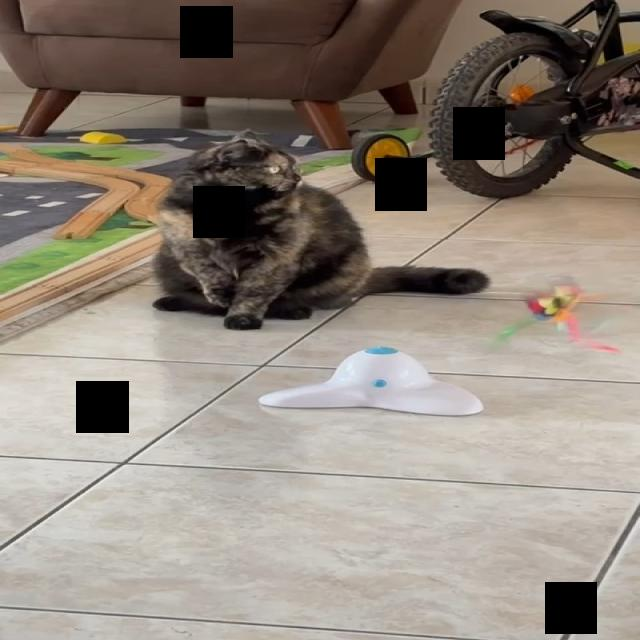authorized: (149, 128, 491, 330)
